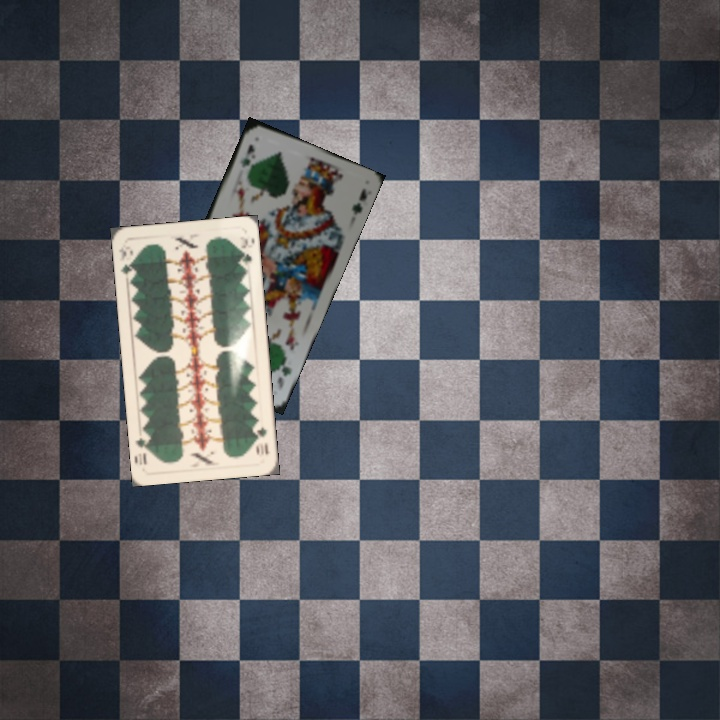G10: (116, 244, 137, 281), (252, 423, 271, 457)
GK: (273, 354, 294, 393), (236, 140, 258, 170)
